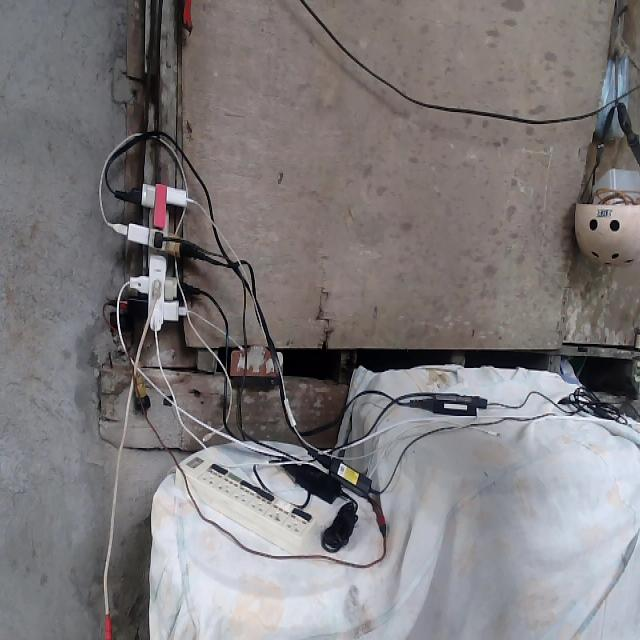-: (122, 176, 193, 333)
